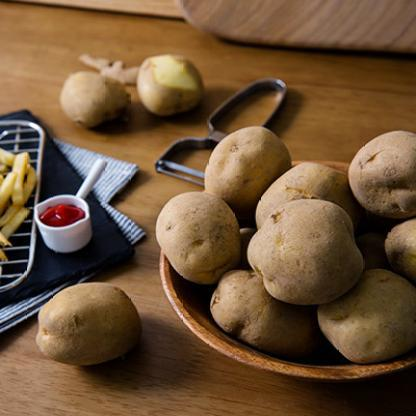potato: (243, 197, 368, 309), (313, 263, 415, 368), (34, 282, 144, 367), (153, 191, 244, 285), (346, 129, 415, 220), (136, 52, 207, 117)
